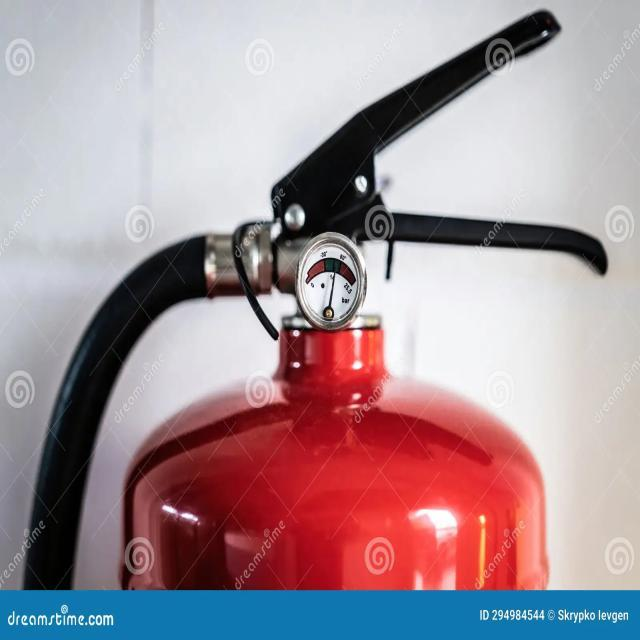pressure gauge: (296, 233, 366, 330)
